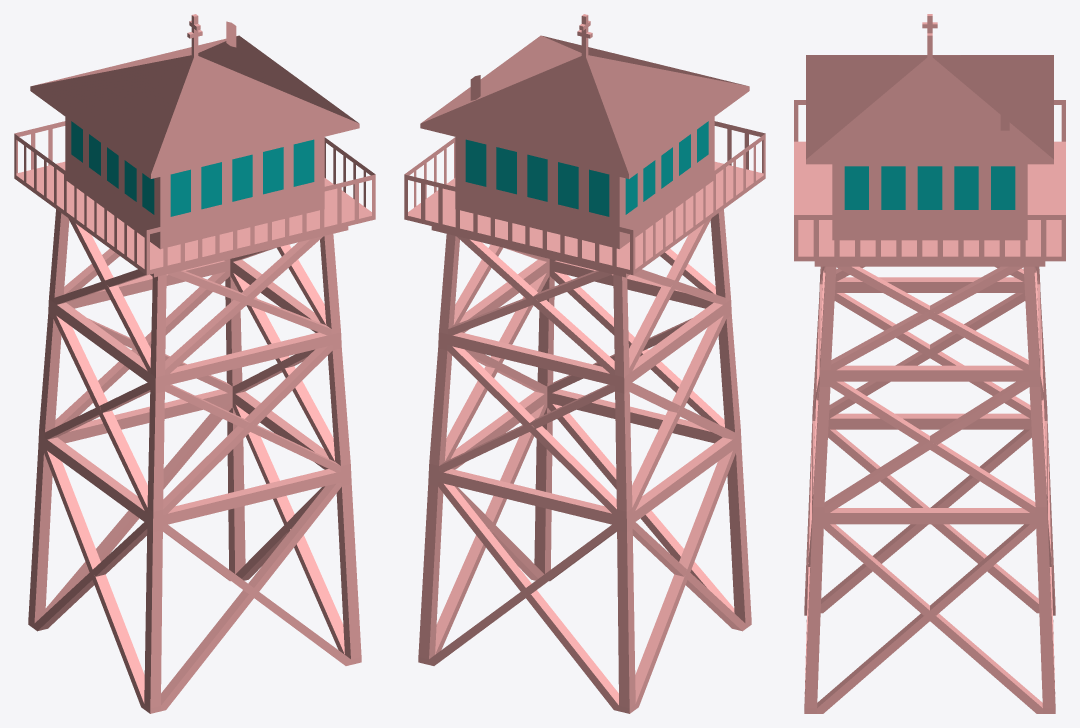
Rendered from tower.fbx.
3 views of the same model, side by side, from view 1: azimuth 30°, elevation 25°; view 2: azimuth 150°, elevation 25°; view 3: azimuth 270°, elevation 25° (orthographic). The views are drawn at different scales.
Parts seen in each view (by area): view 1: Tower1; view 2: Tower1; view 3: Tower1.
Part boxes in pixels (x1,y1,x2,y2): Tower1: (14, 14, 375, 713); Tower1: (404, 14, 765, 713); Tower1: (794, 14, 1065, 713).
Bounding box in the file's own units: 22.26 × 58.33 × 22.26.
